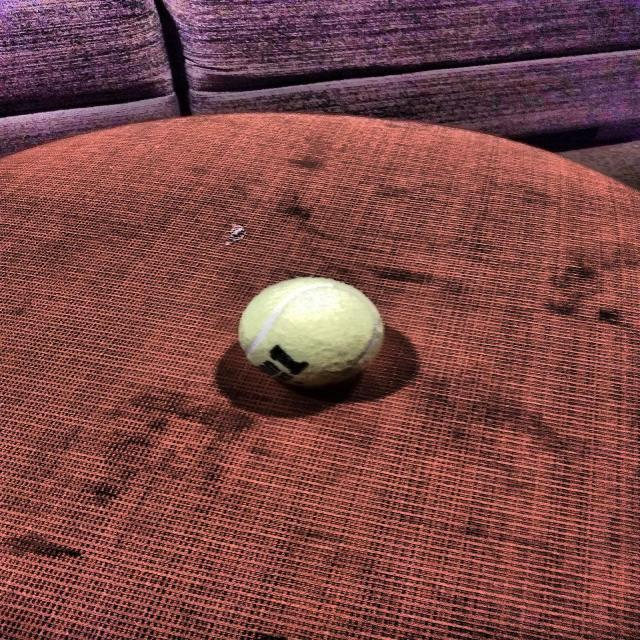tennis-ball: (234, 276, 394, 392)
